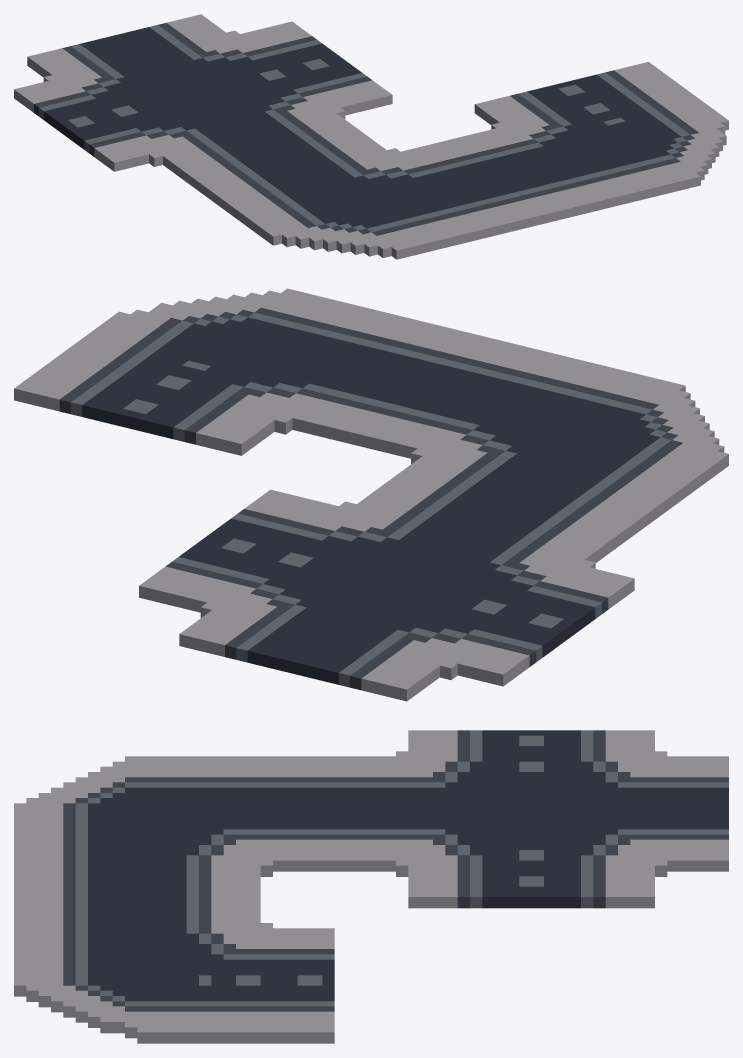
Rendered from Road(1)-6-road 7.obj.
The picture shows the model from 3 angles, top to bottom: view 1: azimuth 30°, elevation 25°; view 2: azimuth 150°, elevation 25°; view 3: azimuth 270°, elevation 25°; orthographic projection. The views are drawn at different scales.
Parts seen in each view (by area): view 1: road 7; view 2: road 7; view 3: road 7.
Part boxes in pixels (x1,y1,x2,y2): road 7: (14,14,728,259); road 7: (14,288,728,701); road 7: (14,730,728,1043).
Size of the model in its own units: 5.8 by 0.1 by 5.8.
Materials: 1 (1 with a texture image).
